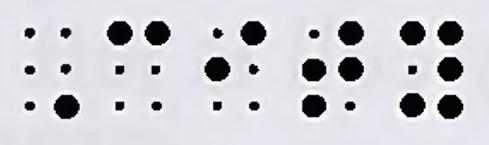C: (107, 19, 169, 112)
capital: (20, 26, 80, 120)
i: (204, 20, 271, 110)
t: (299, 23, 368, 118)
y: (397, 20, 466, 124)
